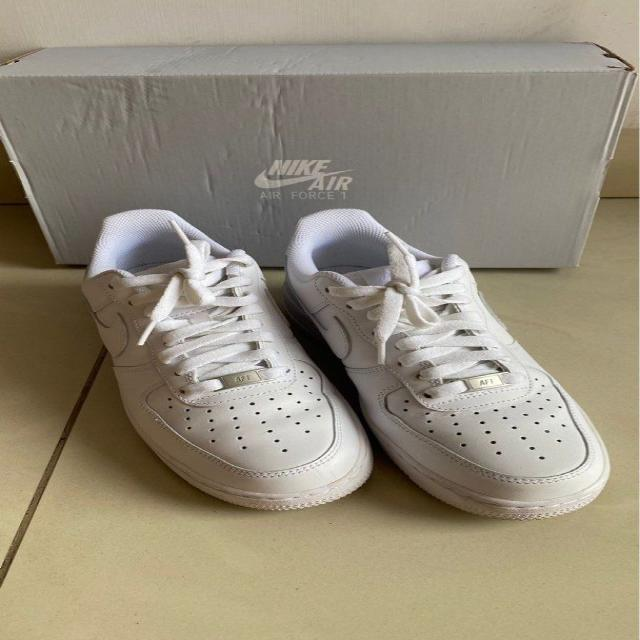nike original air force: (282, 206, 616, 522), (80, 214, 372, 512)
